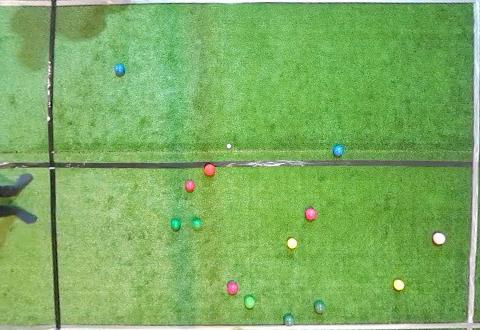blue: (333, 145, 344, 157), (115, 64, 125, 75)
green: (314, 300, 325, 314), (191, 218, 203, 230), (244, 295, 255, 308), (170, 219, 181, 230), (284, 314, 294, 326)
red: (305, 208, 317, 221), (204, 164, 216, 175), (433, 233, 445, 244), (228, 282, 238, 294), (185, 181, 195, 191)
vline: (1, 1, 63, 329), (465, 1, 479, 329)
white: (227, 144, 231, 148)
yellow: (287, 238, 297, 249), (394, 279, 404, 290)
